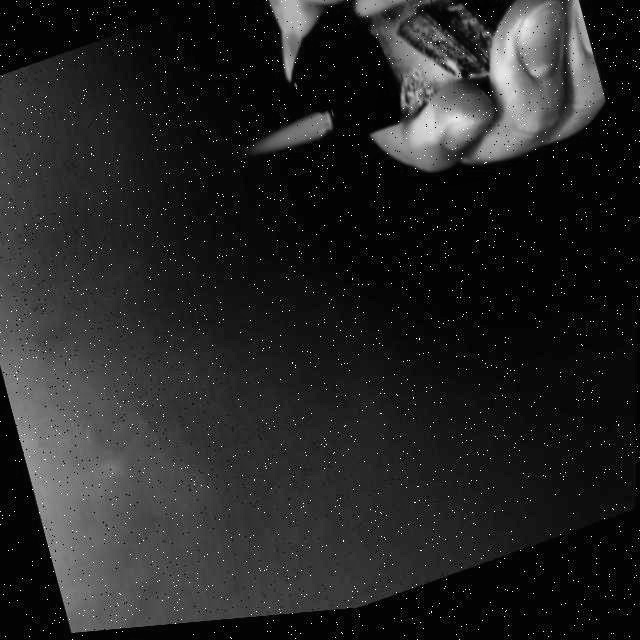Fire: (246, 110, 333, 170)
